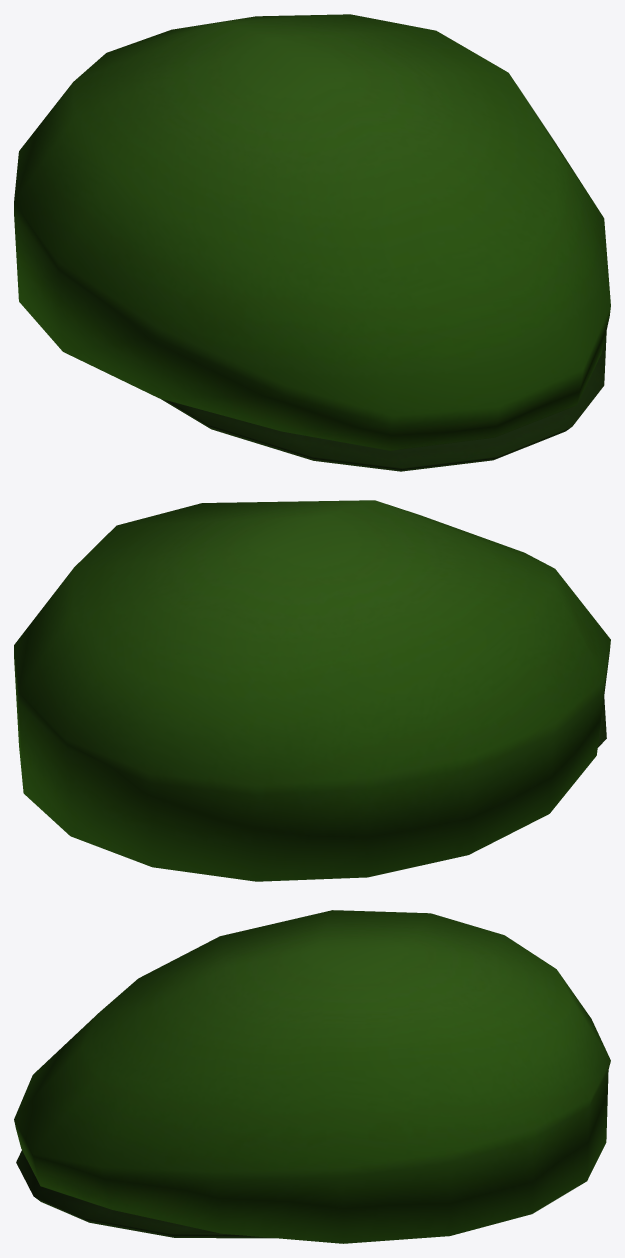
File: BarretHat.FBX
3 views of the same model, one above another, from view 1: azimuth 30°, elevation 25°; view 2: azimuth 150°, elevation 25°; view 3: azimuth 270°, elevation 25° (orthographic). The views are drawn at different scales.
Parts seen in each view (by area): view 1: BarretHat; view 2: BarretHat; view 3: BarretHat.
Boxes of the visible parts, <box> form: BarretHat: <box>14,14,610,471</box>; BarretHat: <box>14,500,610,881</box>; BarretHat: <box>14,910,610,1243</box>.
Bounding box in the file's own units: 36.22 × 18.04 × 44.24.
1 material, 1 textured.
